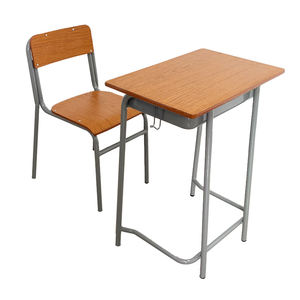m01: (105, 48, 285, 280)
